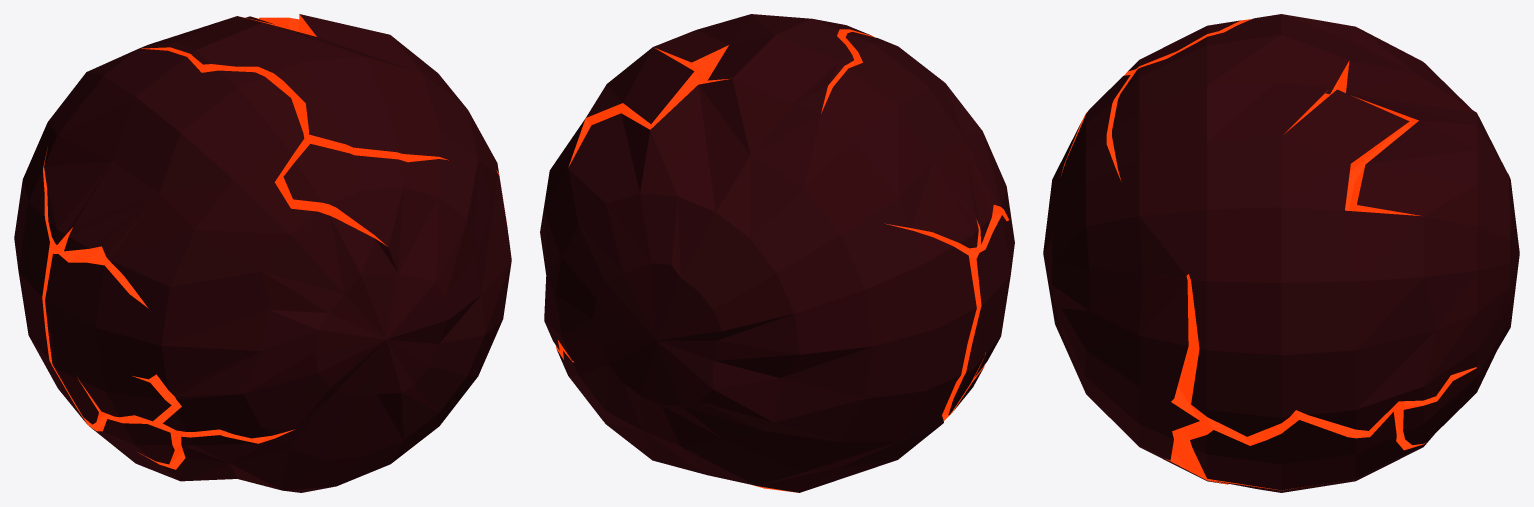
The model's file is boulet (1).fbx.
3 views of the same model, side by side, from view 1: azimuth 30°, elevation 25°; view 2: azimuth 150°, elevation 25°; view 3: azimuth 270°, elevation 25° (orthographic). The views are drawn at different scales.
Visible parts, largest first — view 1: Boulet2; view 2: Boulet2; view 3: Boulet2.
Boxes of the visible parts, left/top/right/bottom form: Boulet2: left=14, top=14, right=511, bottom=492; Boulet2: left=540, top=14, right=1014, bottom=492; Boulet2: left=1043, top=14, right=1519, bottom=492.
Size of the model in its own units: 101 by 100 by 101.
